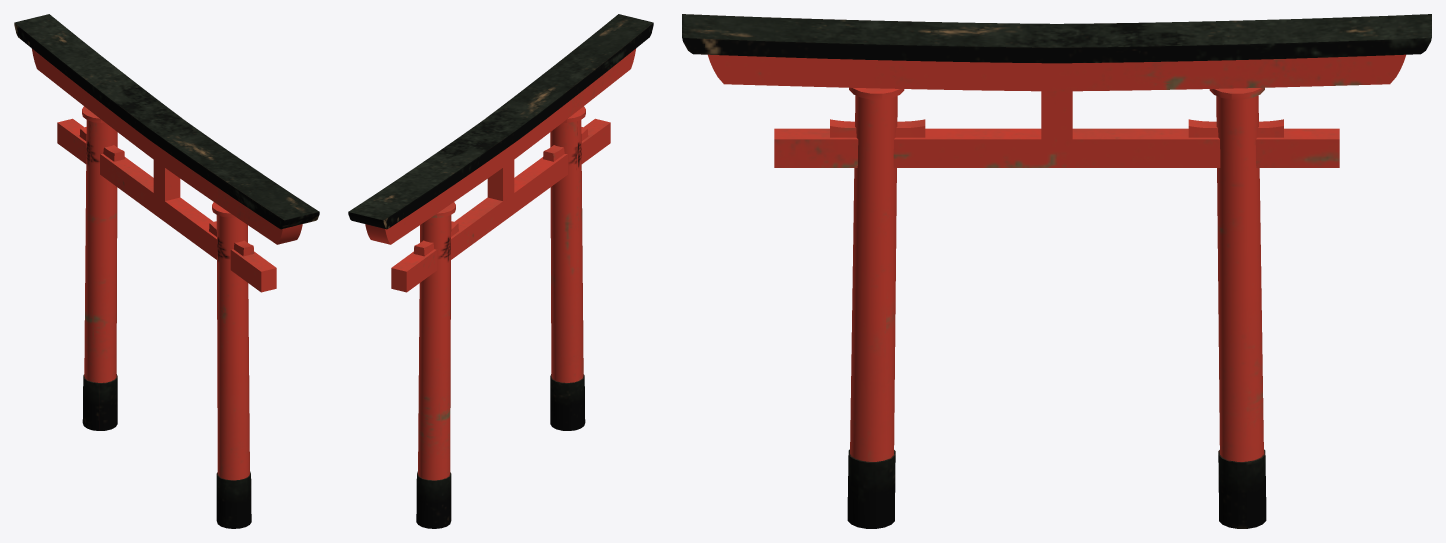
File: torii.glb
The picture shows the model from 3 angles, left to right: view 1: azimuth 30°, elevation 25°; view 2: azimuth 150°, elevation 25°; view 3: azimuth 270°, elevation 25°; orthographic projection. The views are drawn at different scales.
Parts seen in each view (by area): view 1: mesh; view 2: mesh; view 3: mesh.
Part boxes in pixels (bbox=[...]): mesh: bbox=[14, 14, 319, 528]; mesh: bbox=[348, 14, 653, 528]; mesh: bbox=[682, 14, 1431, 528].
Size of the model in its own units: 0.2408 by 2.32 by 3.2.
Materials: 1 (1 with a texture image).
